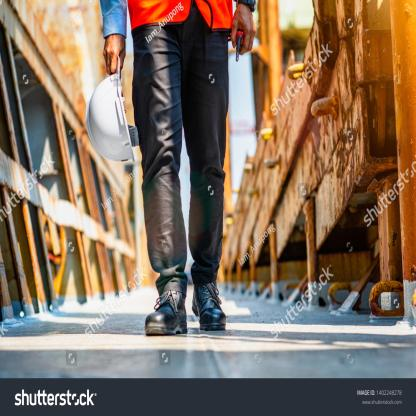bota: (143, 287, 190, 339), (191, 278, 229, 333)
